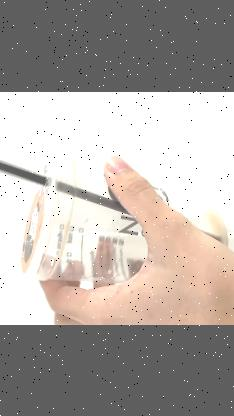Others: (16, 141, 230, 286)
